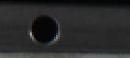holes: (29, 14, 61, 46)
